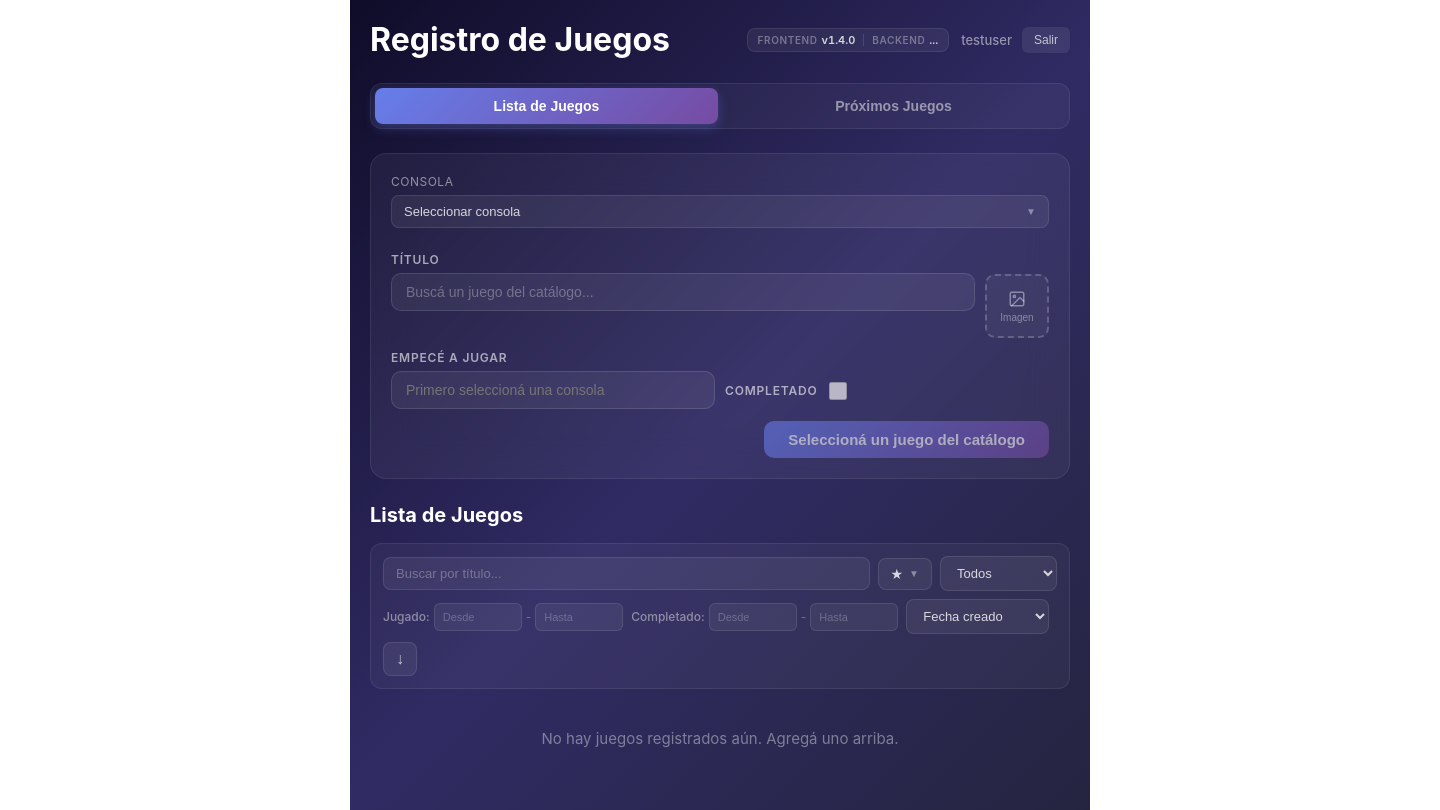
Test: logout clears token and shows login screen
Expected: the heading "Registro de Juegos" is shown, 370,20 -> 670,59
Click the button "Salir" at (1046, 40), box 1022,26 -> 1070,52
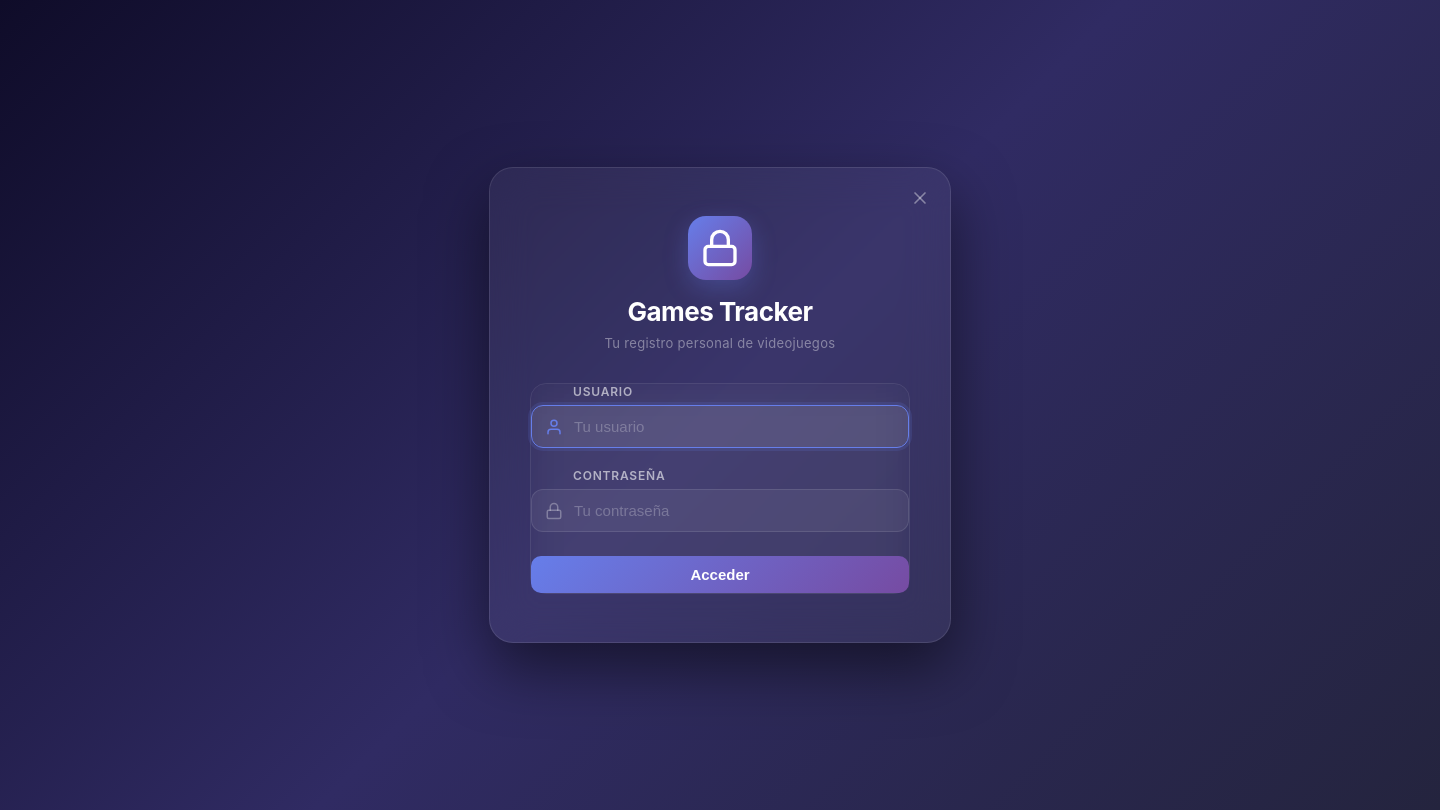
Now the heading "Games Tracker" is shown, box 627,296 -> 812,327
